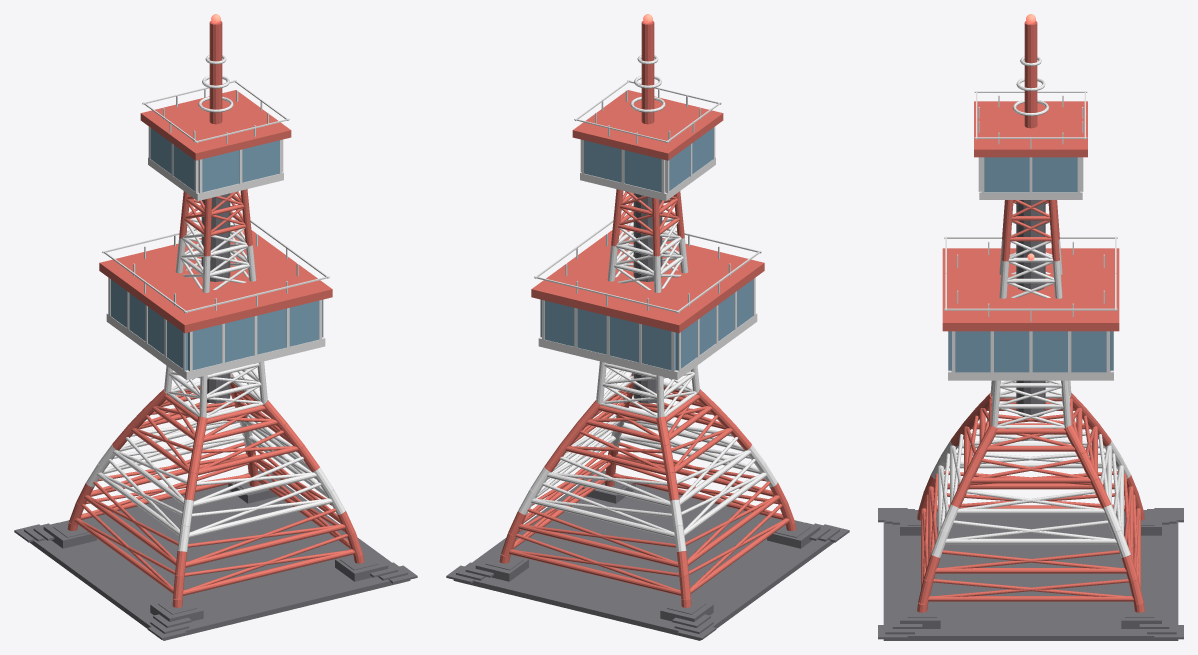
File: tokyo_tower.glb
3 renders of one model, left to right at view 1: azimuth 30°, elevation 25°; view 2: azimuth 150°, elevation 25°; view 3: azimuth 270°, elevation 25°, orthographic. The views are drawn at different scales.
Parts seen in each view (by area): view 1: BasePlatform, Obs1Roof, Obs2Roof, Obs1Glass_0_-4.35, Obs1Glass_-4.35_0, Obs2Glass_0_-2.7, Obs1Floor, ElevatorShaft, Obs2Glass_-2.7_0, Antenna, Obs2Floor, BraceH_0_2 (+14 smaller); view 2: BasePlatform, Obs1Roof, Obs2Roof, Obs1Glass_0_4.35, Obs1Glass_-4.35_0, Obs2Glass_0_2.7, Obs1Floor, ElevatorShaft, Obs2Glass_-2.7_0, Antenna, Obs2Floor, BraceH_0_3 (+15 smaller); view 3: BasePlatform, Obs1Roof, Obs1Glass_4.35_0, Obs2Roof, Obs2Glass_2.7_0, ElevatorShaft, Obs1Floor, Antenna, BraceH_0_1, BraceH_1_1, BraceH_2_1, BraceH_3_1 (+16 smaller).
Part boxes in pixels (box(x1,y1,x2,y2)): BasePlatform: box(29, 484, 410, 640); Obs1Roof: box(99, 229, 332, 333); Obs2Roof: box(140, 90, 291, 160); Obs1Glass_0_-4.35: box(188, 300, 318, 370); Obs1Glass_-4.35_0: box(110, 279, 187, 370); Obs2Glass_0_-2.7: box(202, 140, 279, 192); Obs1Floor: box(106, 313, 325, 379); ElevatorShaft: box(201, 193, 230, 403); Obs2Glass_-2.7_0: box(150, 128, 198, 191); Antenna: box(209, 21, 222, 124); Obs2Floor: box(148, 157, 283, 200); BraceH_0_2: box(183, 549, 354, 595); BasePlatform: box(453, 484, 834, 640); Obs1Roof: box(531, 229, 764, 333); Obs2Roof: box(572, 90, 723, 160); Obs1Glass_0_4.35: box(545, 300, 675, 370); Obs1Glass_-4.35_0: box(676, 279, 753, 370); Obs2Glass_0_2.7: box(584, 140, 661, 192); Obs1Floor: box(538, 313, 757, 379); ElevatorShaft: box(633, 193, 662, 403); Obs2Glass_-2.7_0: box(665, 128, 713, 191); Antenna: box(641, 21, 654, 124); Obs2Floor: box(580, 157, 715, 200); BraceH_0_3: box(509, 549, 680, 595); BasePlatform: box(883, 511, 1178, 640); Obs1Roof: box(942, 248, 1119, 331); Obs1Glass_4.35_0: box(951, 331, 1110, 372); Obs2Roof: box(974, 101, 1087, 157); Obs2Glass_2.7_0: box(984, 157, 1077, 192); ElevatorShaft: box(1016, 200, 1045, 416); Obs1Floor: box(948, 370, 1113, 380); Antenna: box(1024, 21, 1037, 128); BraceH_0_1: box(928, 596, 1133, 601); BraceH_1_1: box(935, 568, 1126, 573); BraceH_2_1: box(945, 538, 1116, 544); BraceH_3_1: box(957, 508, 1104, 514).
Bounding box in the file's own units: 16.6 × 33.82 × 16.6.
